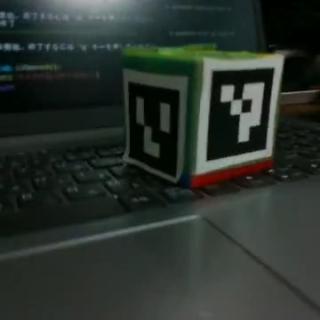armor: (198, 58, 280, 171), (125, 67, 190, 179)
robot: (118, 42, 286, 190)
